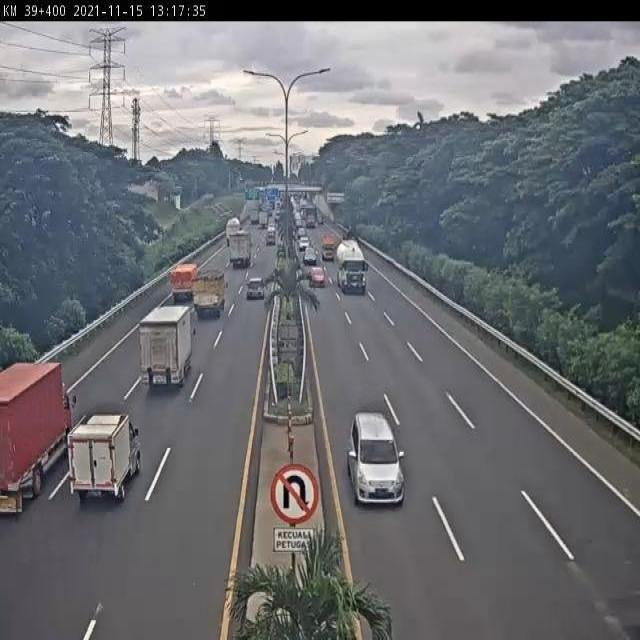Car: (347, 412, 409, 510), (246, 277, 265, 300), (309, 266, 326, 288), (303, 247, 317, 266), (298, 236, 309, 252)
Truck: (0, 360, 78, 512), (69, 413, 141, 498), (140, 306, 193, 386), (336, 240, 368, 292), (192, 268, 225, 318), (169, 263, 197, 302), (228, 231, 252, 267), (321, 232, 337, 262)
